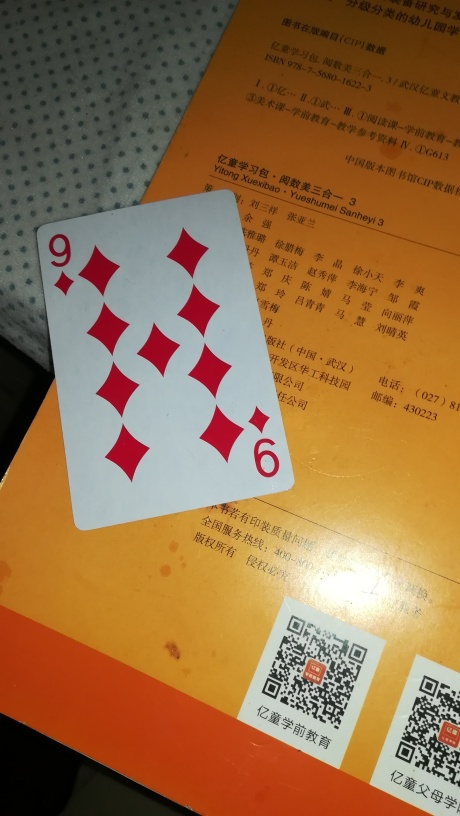fk 9: (34, 189, 295, 530)
